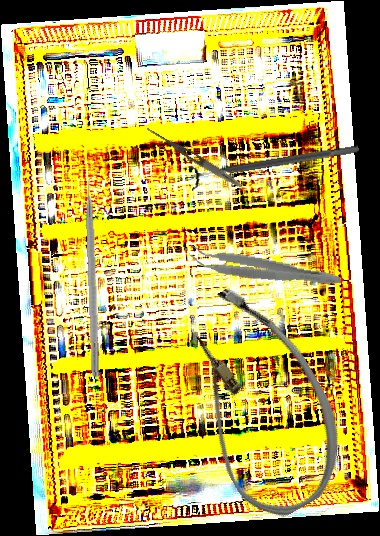Cannula: (147, 272, 369, 531)
Chopper: (84, 164, 111, 379)
Dressing Forceps: (144, 125, 244, 190)
Fixation Ring: (187, 135, 362, 192)
Tissue Forceps: (186, 243, 344, 291)
